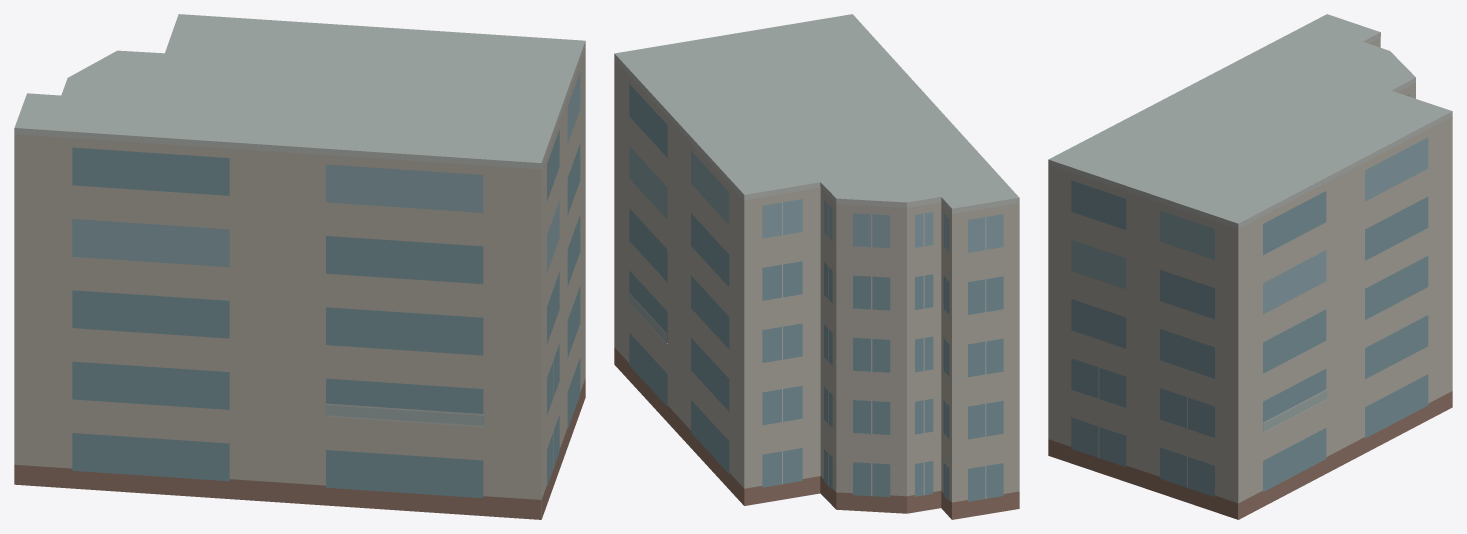
File: survey-upis-32726215.glb
3 renders of one model, left to right at view 1: azimuth 30°, elevation 25°; view 2: azimuth 150°, elevation 25°; view 3: azimuth 270°, elevation 25°, orthographic. The views are drawn at different scales.
Visible parts, largest first — view 1: survey-upis-32726215.tmp; view 2: survey-upis-32726215.tmp; view 3: survey-upis-32726215.tmp.
Boxes of the visible parts, bbox=[...] form: survey-upis-32726215.tmp: bbox=[14, 14, 585, 519]; survey-upis-32726215.tmp: bbox=[614, 14, 1019, 519]; survey-upis-32726215.tmp: bbox=[1048, 14, 1452, 519].
Size of the model in its own units: 21.18 by 13.94 by 17.26.
